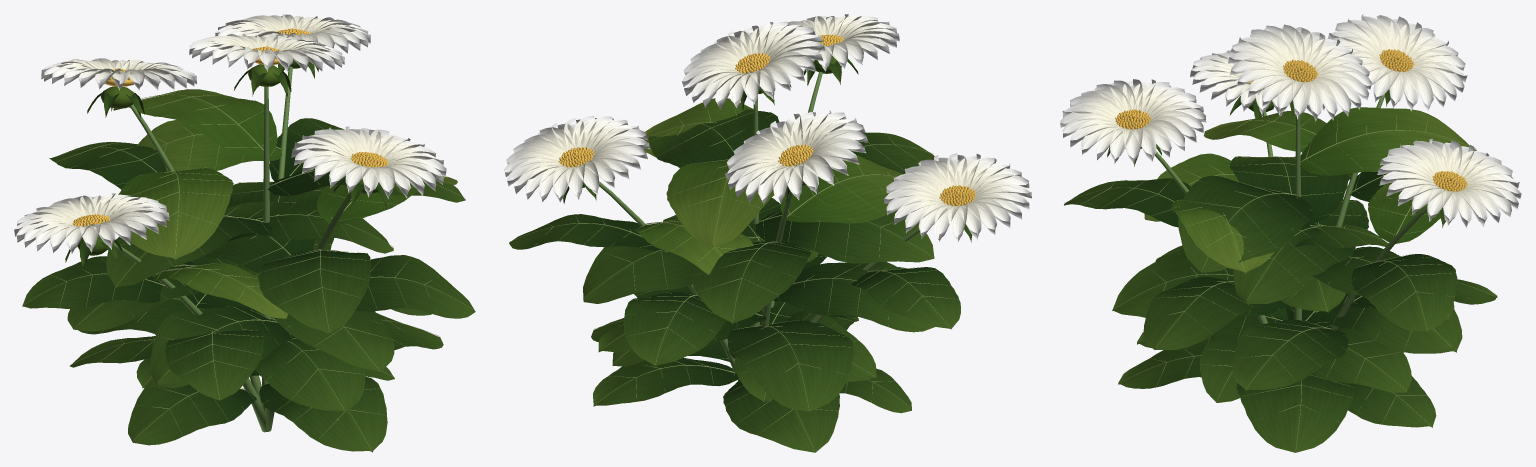
File: daisy-10.glb
3 renders of one model, left to right at view 1: azimuth 30°, elevation 25°; view 2: azimuth 150°, elevation 25°; view 3: azimuth 270°, elevation 25°, orthographic. The views are drawn at different scales.
Visible parts, largest first — view 1: daisy_stage_10_leaf_veins.018, daisy_stage_10_daisy_petal.018, daisy_stage_10_young_leaf.018, daisy_stage_10_raised_midveins.018, daisy_stage_10_stem_fibres.018, daisy_stage_10_pollen_granules.018; view 2: daisy_stage_10_leaf_veins.018, daisy_stage_10_daisy_petal.018, daisy_stage_10_young_leaf.018, daisy_stage_10_raised_midveins.018, daisy_stage_10_pollen_granules.018, daisy_stage_10_stem_fibres.018; view 3: daisy_stage_10_leaf_veins.018, daisy_stage_10_daisy_petal.018, daisy_stage_10_young_leaf.018, daisy_stage_10_raised_midveins.018, daisy_stage_10_pollen_granules.018, daisy_stage_10_stem_fibres.018.
Boxes of the visible parts, box(x1,y1,x2,y2) form: daisy_stage_10_leaf_veins.018: box(22, 61, 475, 452); daisy_stage_10_daisy_petal.018: box(14, 14, 446, 253); daisy_stage_10_young_leaf.018: box(77, 59, 457, 318); daisy_stage_10_raised_midveins.018: box(22, 89, 474, 450); daisy_stage_10_stem_fibres.018: box(113, 66, 351, 432); daisy_stage_10_pollen_granules.018: box(72, 28, 388, 226); daisy_stage_10_leaf_veins.018: box(509, 59, 972, 452); daisy_stage_10_daisy_petal.018: box(504, 14, 1031, 242); daisy_stage_10_young_leaf.018: box(582, 55, 919, 274); daisy_stage_10_raised_midveins.018: box(509, 104, 957, 451); daisy_stage_10_pollen_granules.018: box(558, 34, 976, 206); daisy_stage_10_stem_fibres.018: box(599, 72, 919, 380); daisy_stage_10_leaf_veins.018: box(1064, 89, 1513, 452); daisy_stage_10_daisy_petal.018: box(1060, 14, 1521, 228); daisy_stage_10_young_leaf.018: box(1125, 98, 1476, 273); daisy_stage_10_raised_midveins.018: box(1064, 108, 1495, 451); daisy_stage_10_pollen_granules.018: box(1115, 49, 1467, 191); daisy_stage_10_stem_fibres.018: box(1154, 94, 1427, 330).
Size of the model in its own units: 0.4146 by 0.3499 by 0.391.
6 materials, 3 textured.
